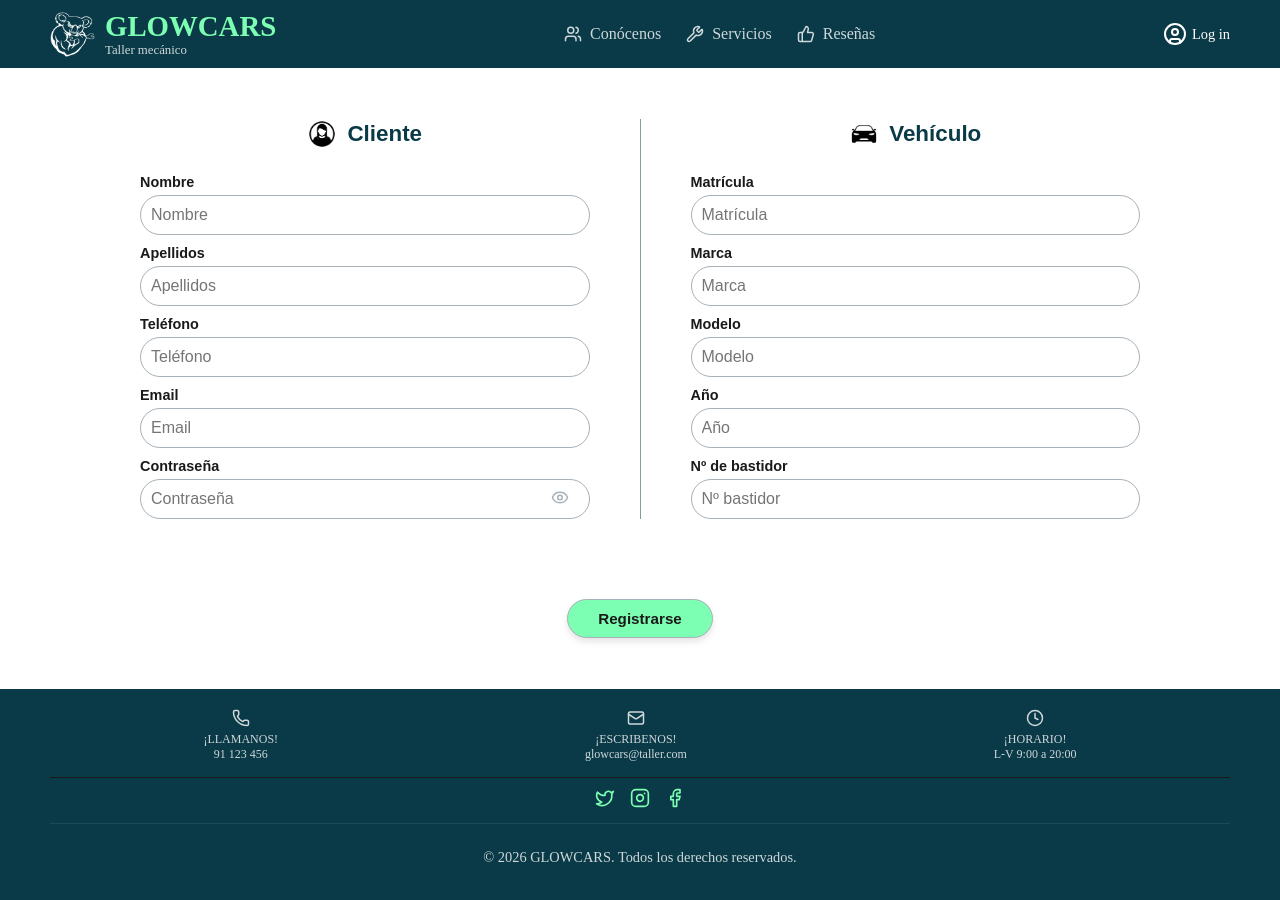
Scenario: Pruebas en <Registro /> › debe limitar el teléfono a 9 dígitos y el año a 4
Type "1234567890123" into the number field with placeholder "Teléfono" at (365, 357), box [140,337,590,377]
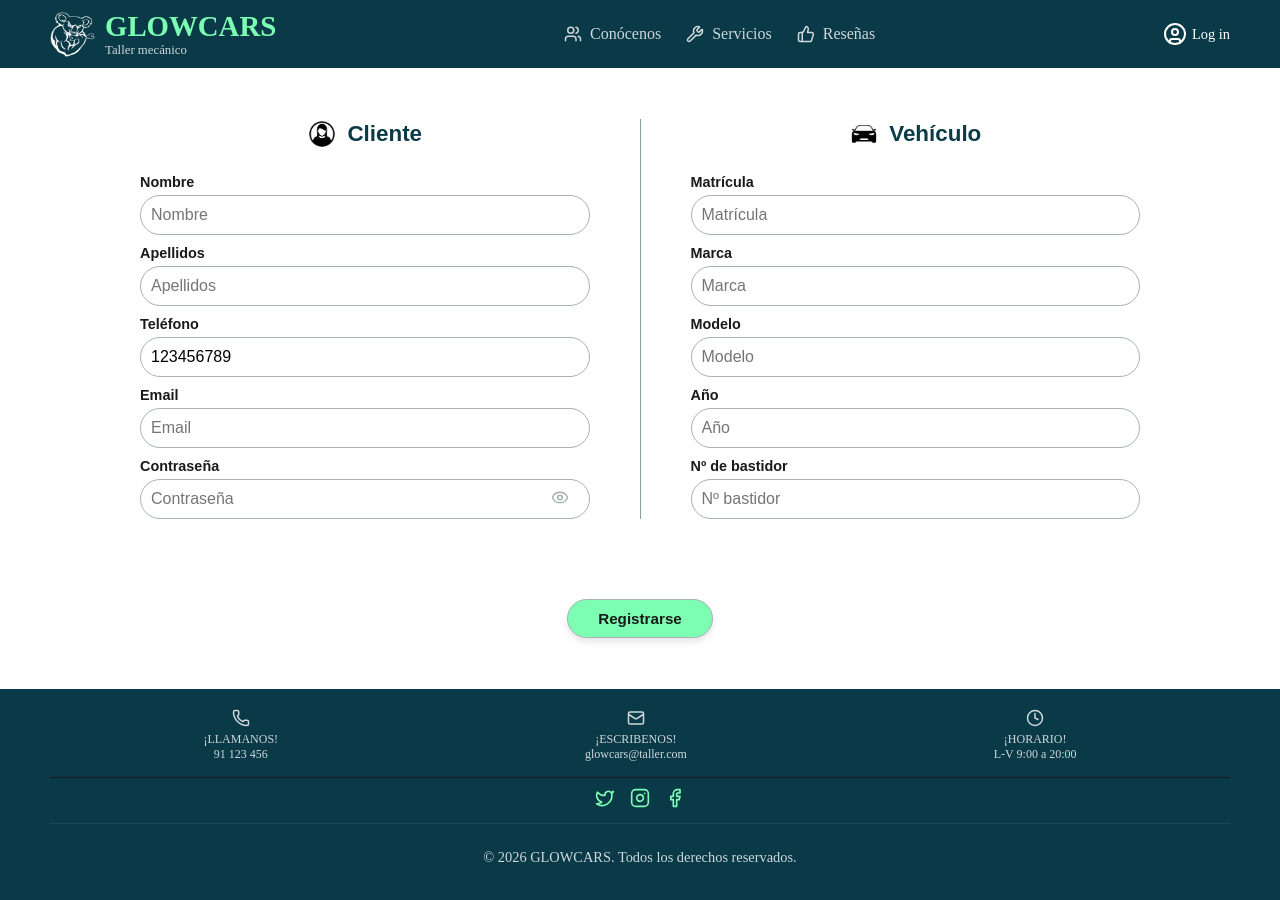
Check: the number field with placeholder "Teléfono" holds "123456789", box [140,337,590,377]
Type "202455" into the number field with placeholder "Año" at (915, 428), box [690,408,1140,448]
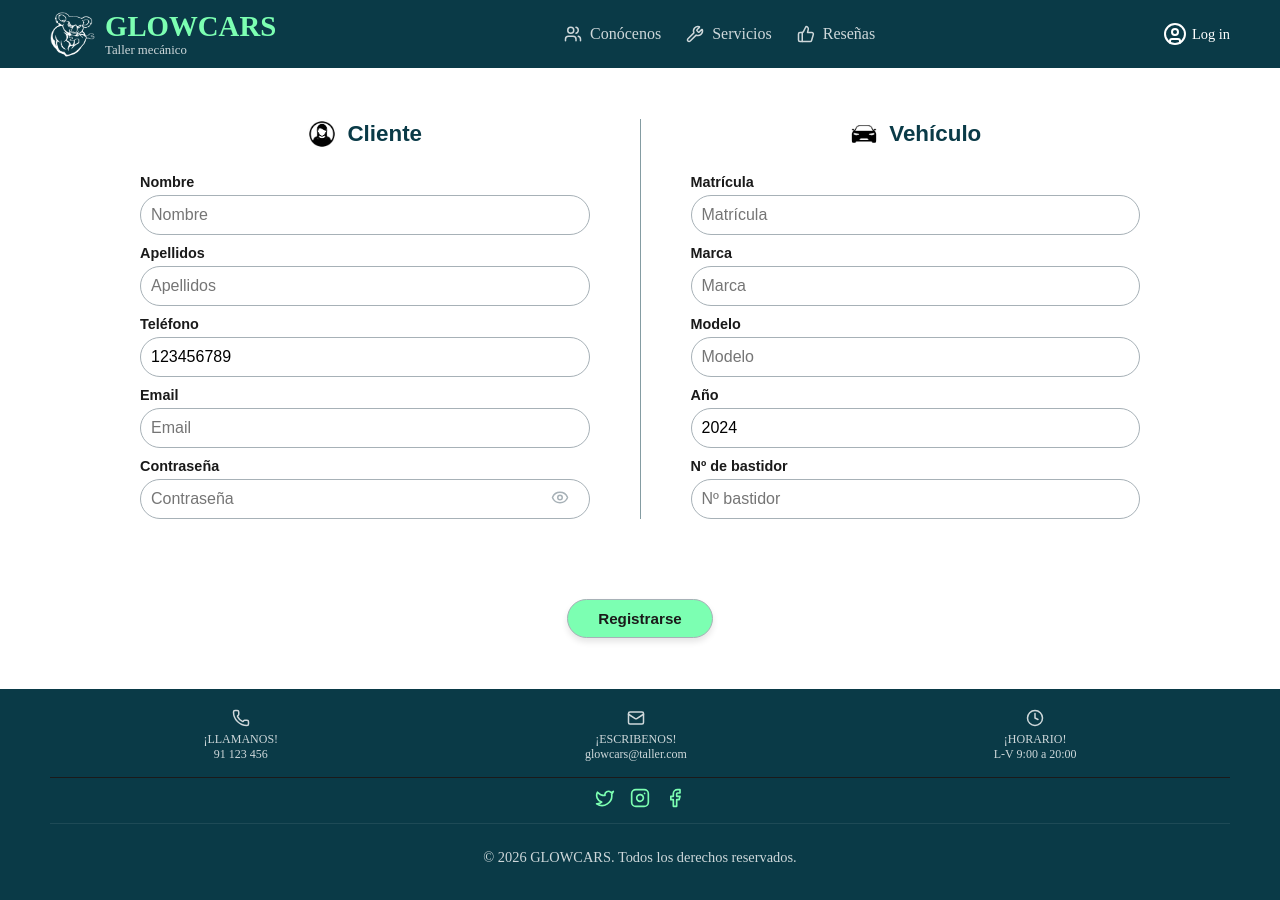
Check: the number field with placeholder "Año" below "Año" holds "2024", box [690,408,1140,448]
